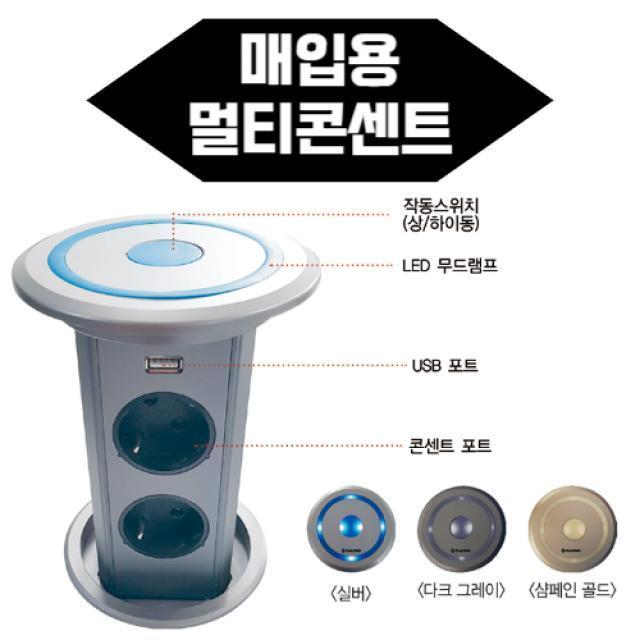typeb: (50, 252, 280, 640)
